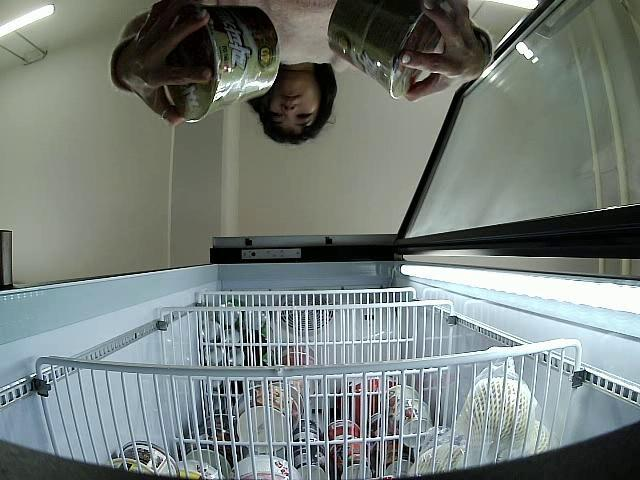03_chapagetti_L: (169, 5, 280, 121), (328, 0, 428, 94)
